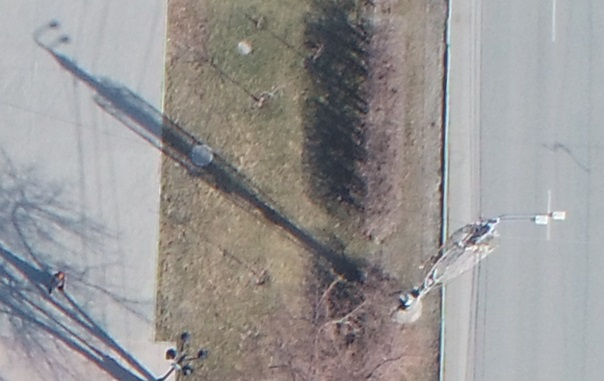opora: (381, 207, 567, 326)
